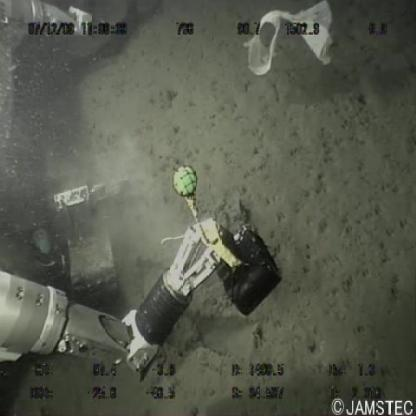Rov: (1, 1, 289, 385)
Rác: (239, 1, 341, 79)
